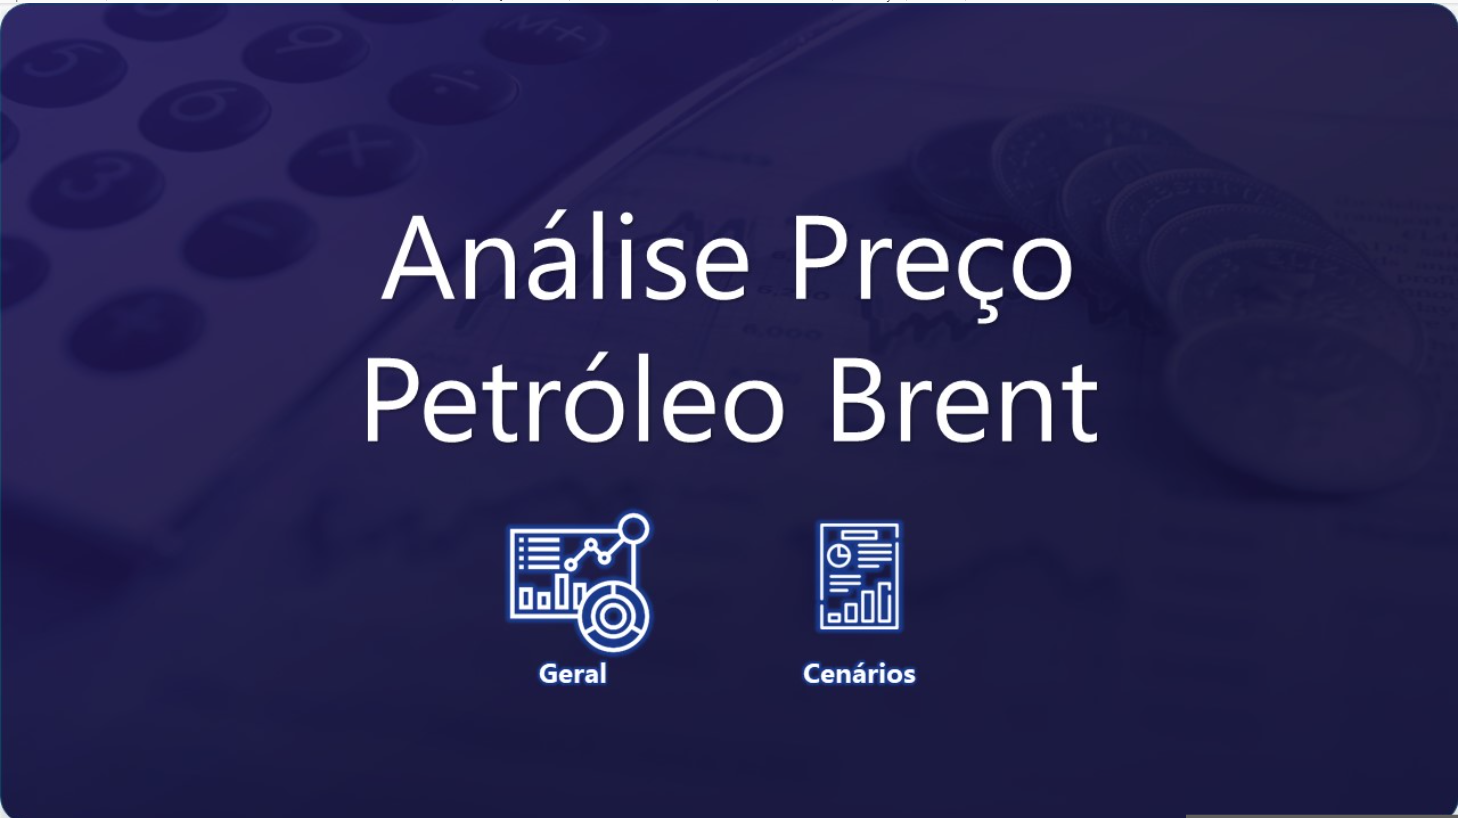

The page's visual inventory and layout, read from the dashboard file:
{"tool":"powerbi","page":{"name":"Home","canvas":[1280,720],"ordinal":0},"visuals":[{"type":"actionButton","box":[442.6,438.7,130.3,162.4],"z":0},{"type":"actionButton","box":[698.1,438.7,112.8,162.4],"z":1000}]}

Visuals, with their boxes in screenshot pixels (x1, y1, x2, y2), scaled from the page's 1280x720 canvas onto the 1458x818 screenshot:
actionButton: box=[504, 498, 653, 683]
actionButton: box=[795, 498, 924, 683]
